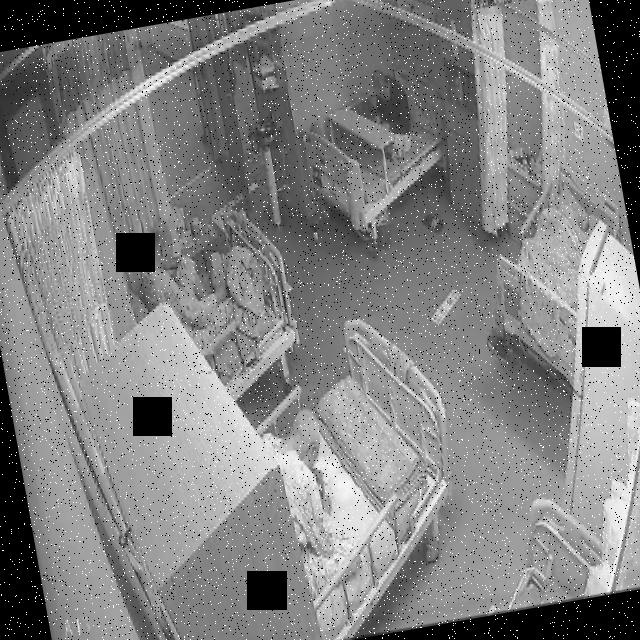bed: (255, 306, 481, 640), (471, 153, 640, 397), (151, 202, 307, 412), (290, 61, 457, 238)
patient: (130, 201, 282, 362), (260, 403, 362, 600), (364, 66, 419, 163)
sit: (132, 202, 281, 364), (262, 402, 360, 594), (363, 68, 417, 160)
